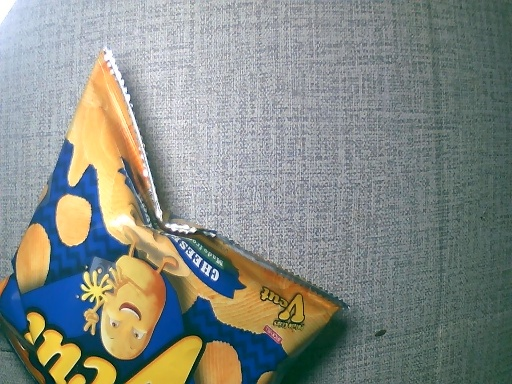plastic: (2, 72, 347, 384)
